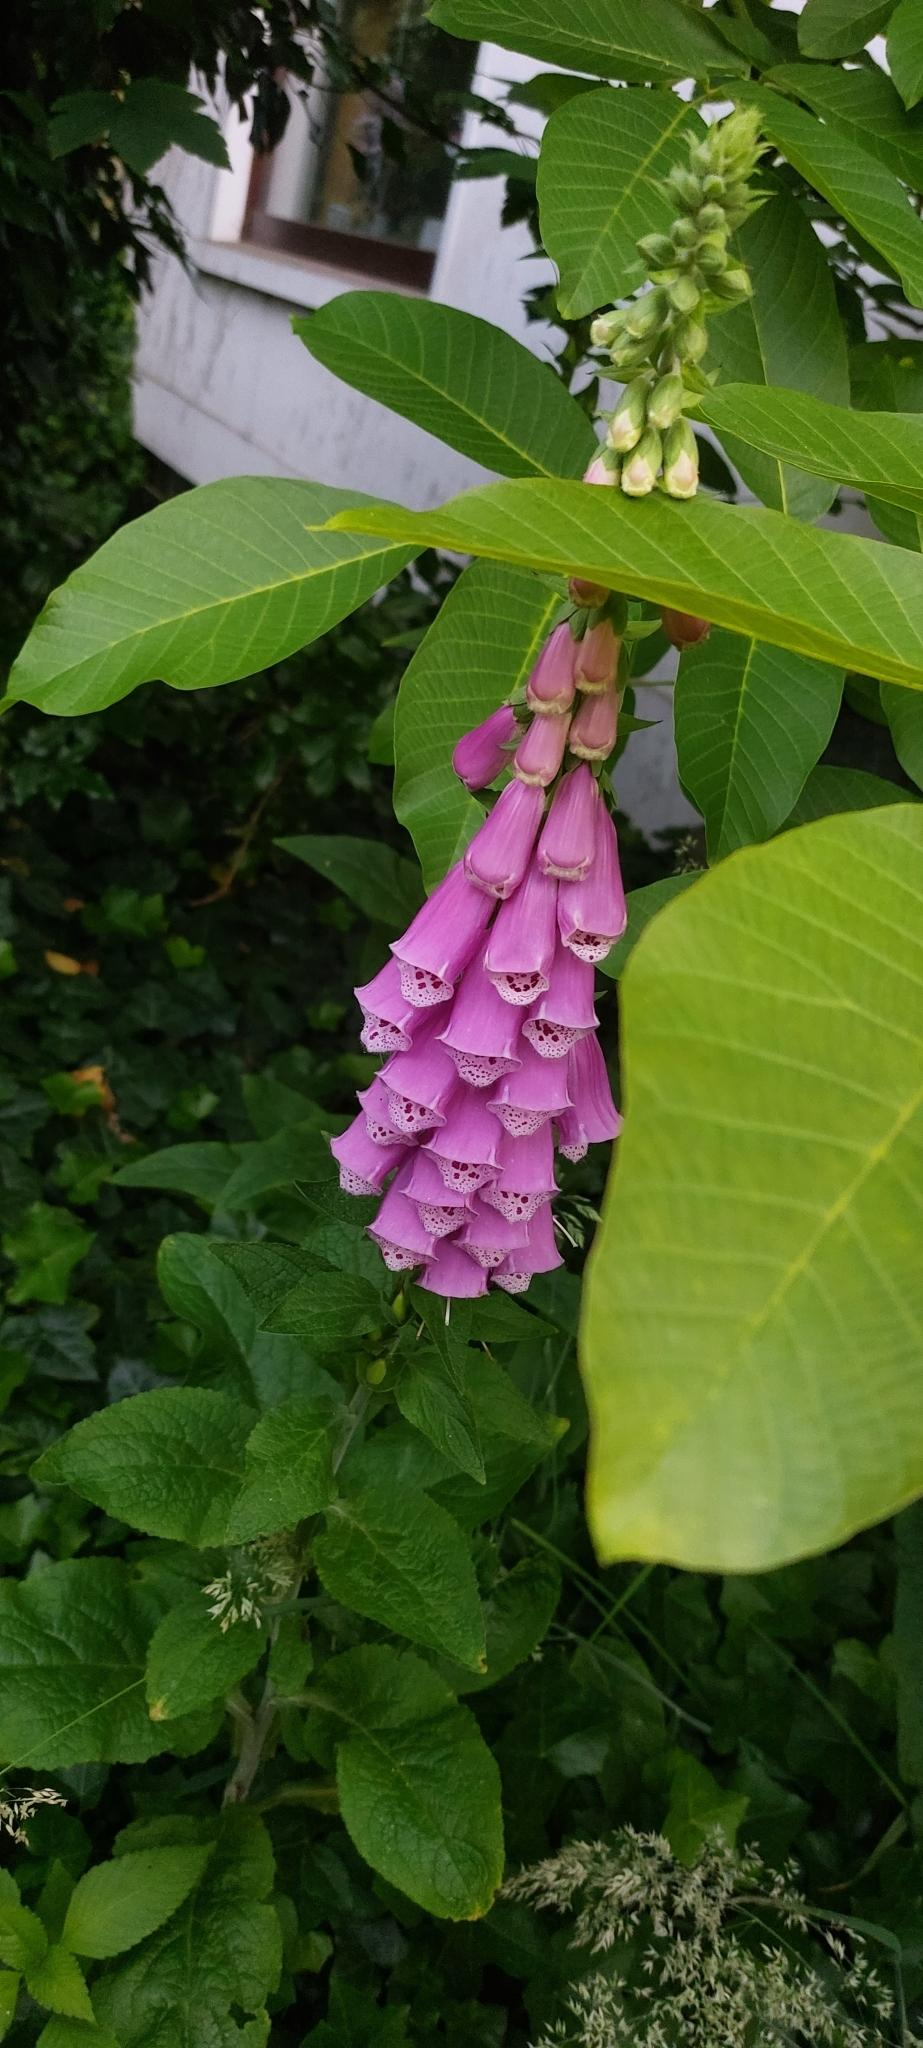Digitalis L: (84, 118, 796, 1927)
